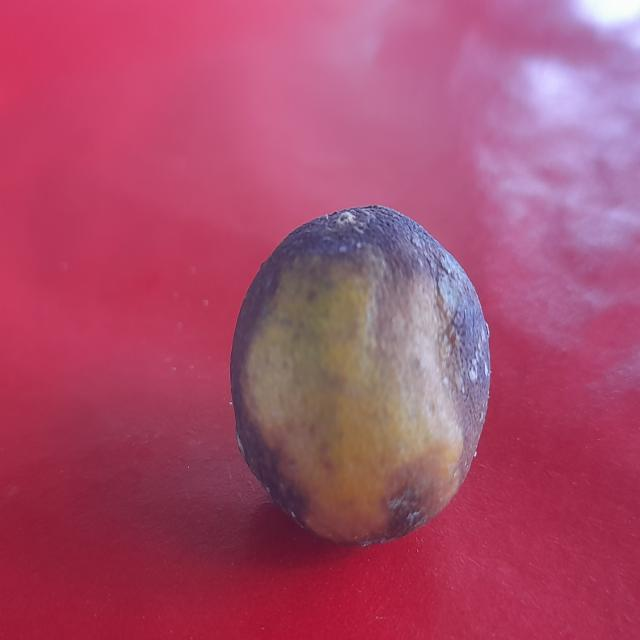black spot: (226, 201, 505, 536)
